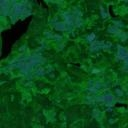alloviz: (1, 14, 34, 60), (106, 3, 118, 18), (35, 1, 50, 10), (114, 101, 127, 109)
